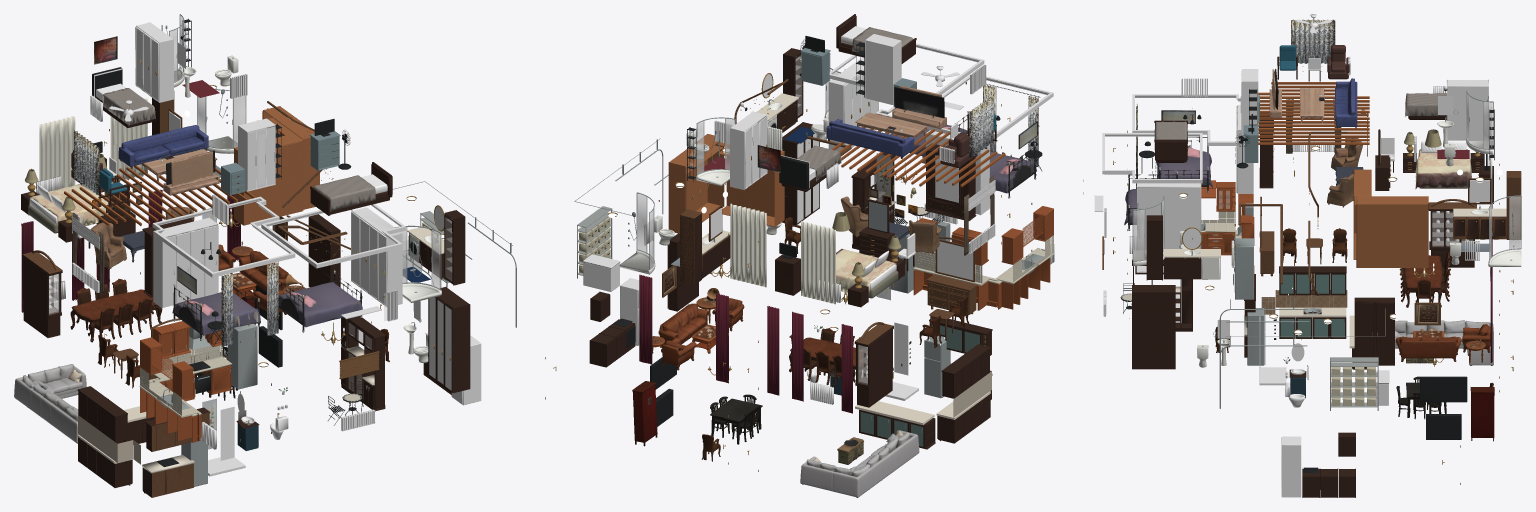
File: INTERIOR-opt-v3.glb
3 views of the same model, side by side, from view 1: azimuth 30°, elevation 25°; view 2: azimuth 150°, elevation 25°; view 3: azimuth 270°, elevation 25° (orthographic). The views are drawn at different scales.
Visible parts, largest first — view 1: EK_WOOD2_giris, EK_wht_kat1, EK_WOOD2_kat1, EK_WOOD1_bodrum, EK_wht_cati, EK_ROUGHNSS90_kat1, MOBILYA_sahip_meshes0013_kat2, MOBILYA_sahip_meshes0004_kat3, EK_ROUGHNSS90_cati, MOBILYA_bodrum_kose_koltuk, EK_ROUGHNESS63_giris, MOBILYA_sahip_meshes0001_kat1 (+30 smaller); view 2: EK_WOOD2_kat1, EK_WOOD2_giris, EK_ROUGHNSS90_kat1, EK_wht_kat1, EK_wht_cati, EK_ROUGHNSS90_giris, EK_WOOD1_bodrum, EK_WOOD1_giris, MOBILYA_sahip_meshes0004_kat3, MOBILYA_bodrum_kose_koltuk, MOBILYA_sahip_meshes0009_kat0, MOBILYA_salon_deri_takim (+34 smaller); view 3: EK_WOOD2_kat1, EK_WOOD2_giris, EK_wht_kat1, EK_ROUGHNESS63_bodrum, EK_wht_cati, EK_ROUGHNSS90_cati, EK_WOOD1_giris, EK_BLCK_bodrum, MOBILYA_sahip_meshes0004_kat3, EK_ORIJINAL_KORKULUK_WOOD1.001_kat1, MOBILYA_salon_deri_takim, EK_metal3_giris (+28 smaller).
Part boxes in pixels (bbox=[...]): EK_WOOD2_giris: bbox=[140, 214, 470, 442]; EK_wht_kat1: bbox=[36, 176, 405, 321]; EK_WOOD2_kat1: bbox=[21, 106, 438, 297]; EK_WOOD1_bodrum: bbox=[23, 313, 210, 497]; EK_wht_cati: bbox=[90, 22, 275, 225]; EK_ROUGHNSS90_kat1: bbox=[25, 98, 430, 331]; MOBILYA_sahip_meshes0013_kat2: bbox=[172, 270, 362, 340]; MOBILYA_sahip_meshes0004_kat3: bbox=[118, 125, 219, 195]; EK_ROUGHNSS90_cati: bbox=[71, 80, 387, 211]; MOBILYA_bodrum_kose_koltuk: bbox=[14, 364, 108, 443]; EK_ROUGHNESS63_giris: bbox=[139, 222, 446, 417]; MOBILYA_sahip_meshes0001_kat1: bbox=[70, 279, 162, 342]; EK_WOOD2_kat1: bbox=[668, 102, 1005, 307]; EK_WOOD2_giris: bbox=[667, 122, 1053, 311]; EK_ROUGHNSS90_kat1: bbox=[671, 126, 1022, 304]; EK_wht_kat1: bbox=[644, 43, 1053, 302]; EK_wht_cati: bbox=[714, 34, 986, 190]; EK_ROUGHNSS90_giris: bbox=[639, 207, 928, 405]; EK_WOOD1_bodrum: bbox=[857, 318, 992, 449]; EK_WOOD1_giris: bbox=[662, 237, 977, 400]; MOBILYA_sahip_meshes0004_kat3: bbox=[826, 85, 946, 158]; MOBILYA_bodrum_kose_koltuk: bbox=[800, 430, 919, 497]; MOBILYA_sahip_meshes0009_kat0: bbox=[632, 381, 762, 461]; MOBILYA_salon_deri_takim: bbox=[652, 288, 744, 370]; EK_WOOD2_kat1: bbox=[1166, 82, 1505, 267]; EK_WOOD2_giris: bbox=[1132, 180, 1472, 368]; EK_wht_kat1: bbox=[1094, 94, 1490, 260]; EK_ROUGHNESS63_bodrum: bbox=[1244, 274, 1354, 398]; EK_wht_cati: bbox=[1181, 14, 1488, 161]; EK_ROUGHNSS90_cati: bbox=[1154, 45, 1469, 158]; EK_WOOD1_giris: bbox=[1259, 196, 1476, 325]; EK_BLCK_bodrum: bbox=[1246, 319, 1467, 472]; MOBILYA_sahip_meshes0004_kat3: bbox=[1269, 69, 1357, 128]; EK_ORIJINAL_KORKULUK_WOOD1.001_kat1: bbox=[1238, 171, 1521, 256]; MOBILYA_salon_deri_takim: bbox=[1395, 324, 1490, 362]; EK_metal3_giris: bbox=[1141, 203, 1309, 408].
Bounding box in the file's own units: 13.23 × 12.25 × 14.56.
Materials: 42 (31 with a texture image).
